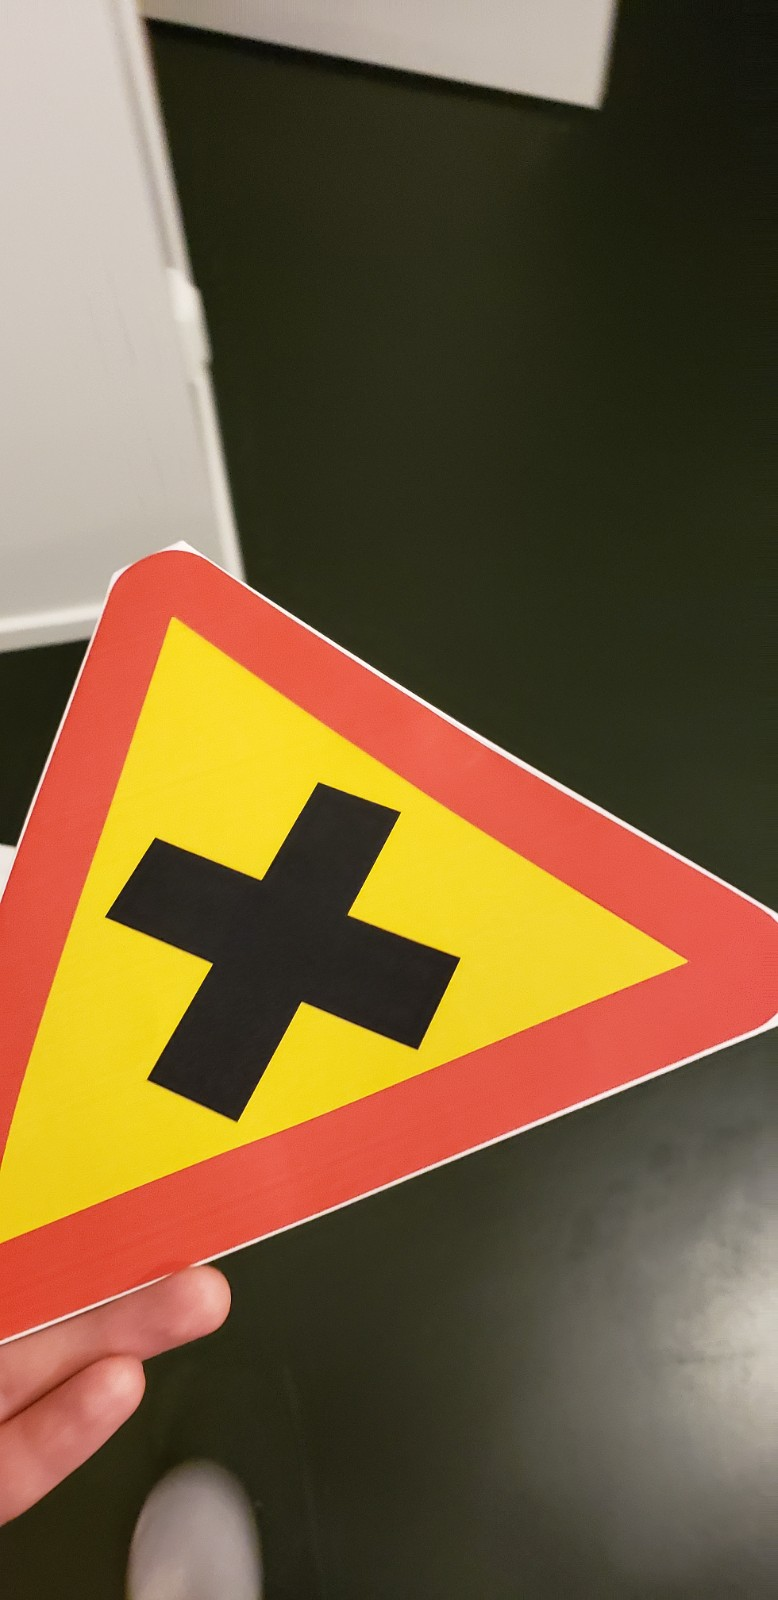junction: (5, 470, 778, 1319)
